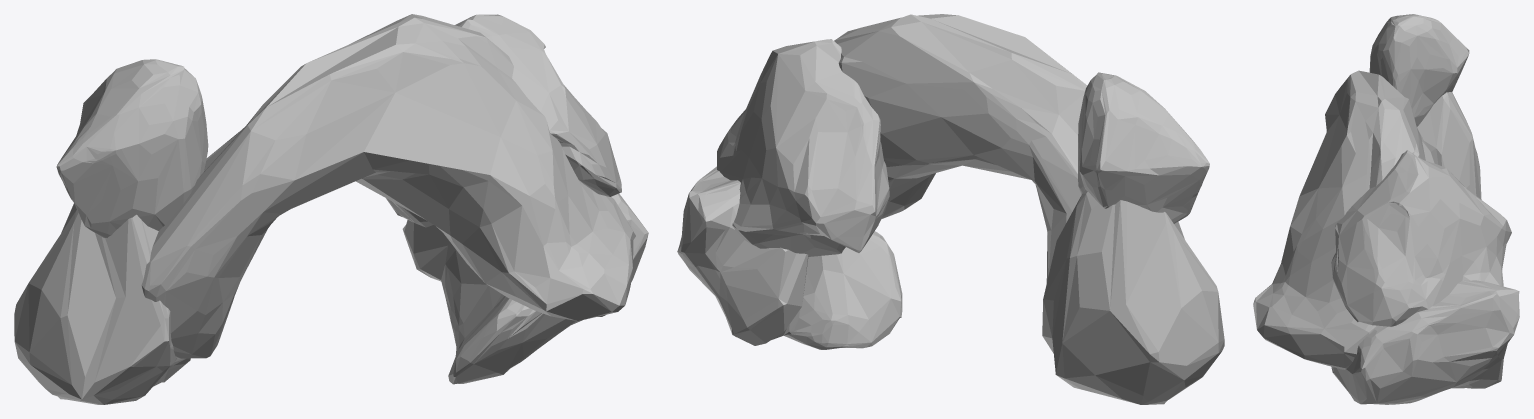
The model's file is Rock-1.glb.
3 renders of one model, left to right at view 1: azimuth 30°, elevation 25°; view 2: azimuth 150°, elevation 25°; view 3: azimuth 270°, elevation 25°, orthographic. The views are drawn at different scales.
Visible parts, largest first — view 1: Rock_045; view 2: Rock_045; view 3: Rock_045.
Part boxes in pixels (x1,y1,x2,y2): Rock_045: (14,14,648,404); Rock_045: (677,14,1224,404); Rock_045: (1253,14,1519,404).
Size of what is drawn, in the model's own units: 13.36 by 8.32 by 7.22.
1 material, 1 textured.
